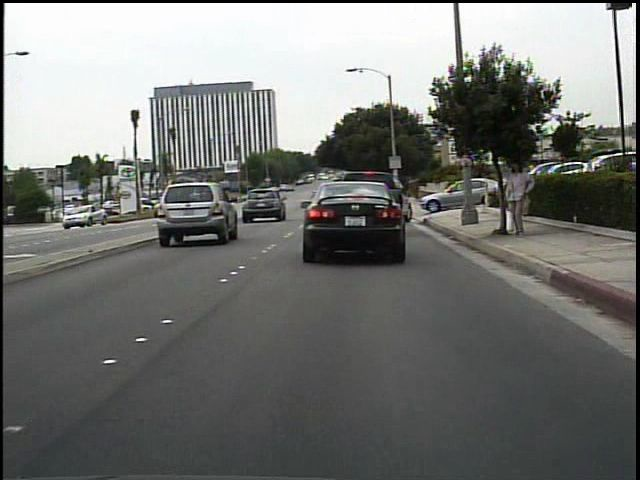person: (499, 157, 536, 241)
